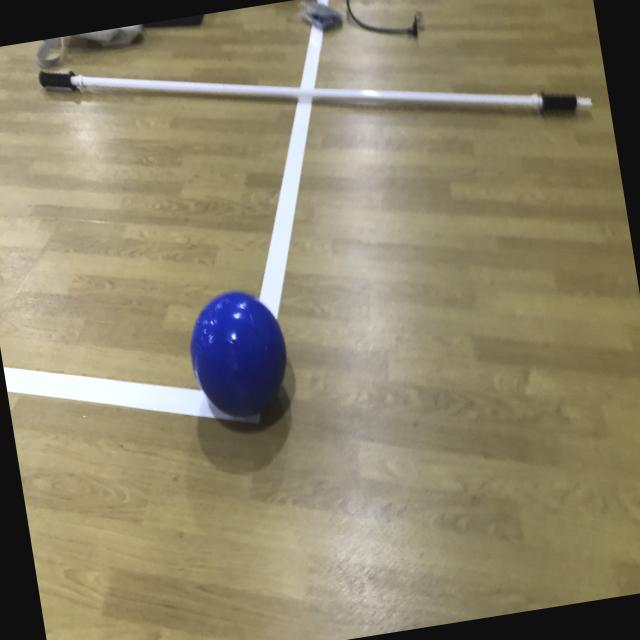blue_ball: (182, 286, 296, 424)
